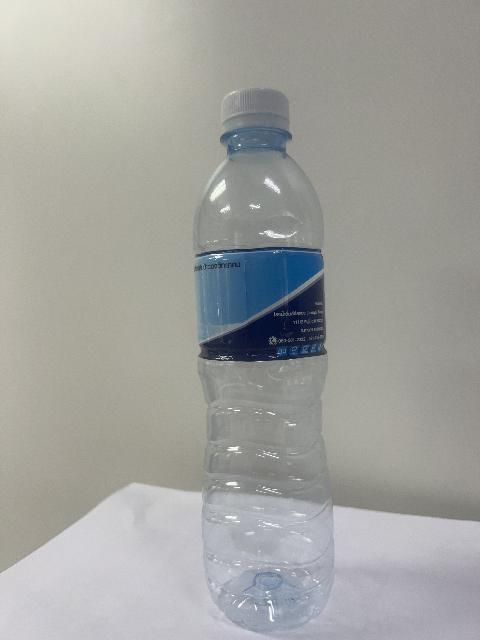bottle: (194, 89, 333, 631)
